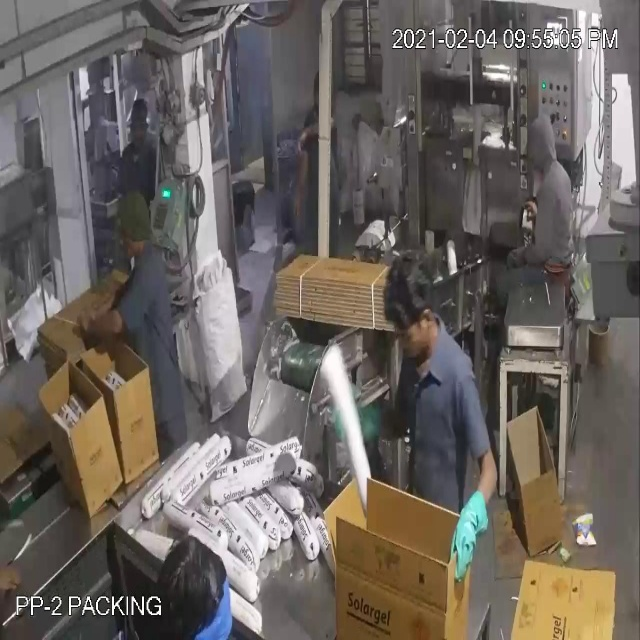Guantes: (438, 492, 494, 592)
Sin_guantes: (59, 282, 140, 352), (287, 137, 314, 231)
